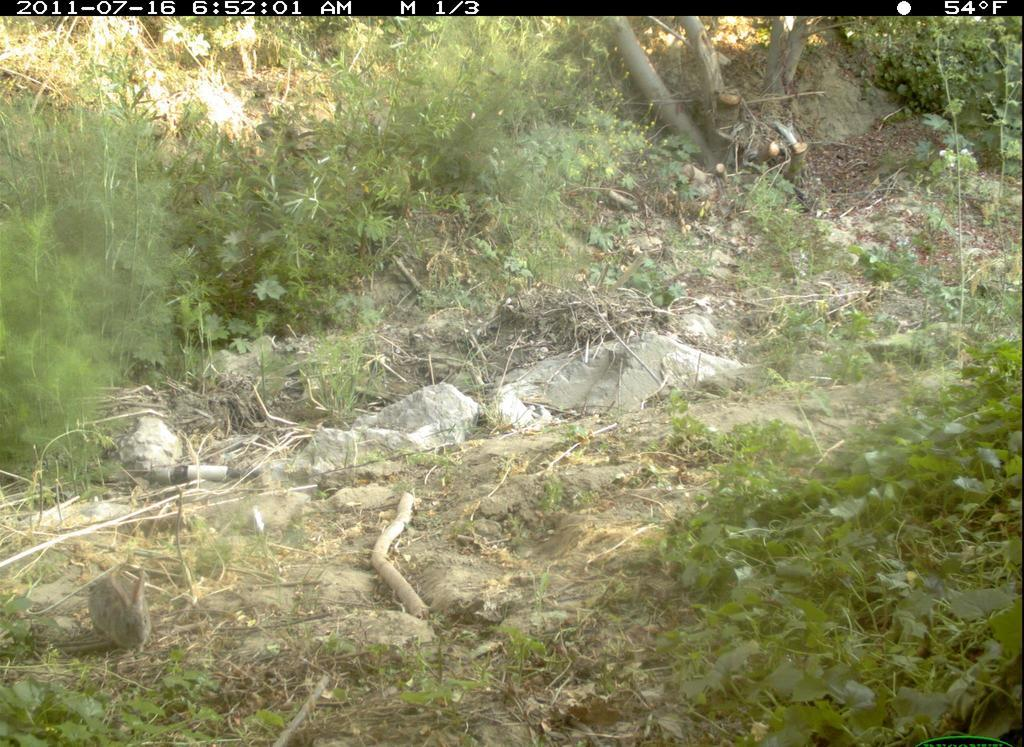rabbit: (71, 552, 161, 660)
